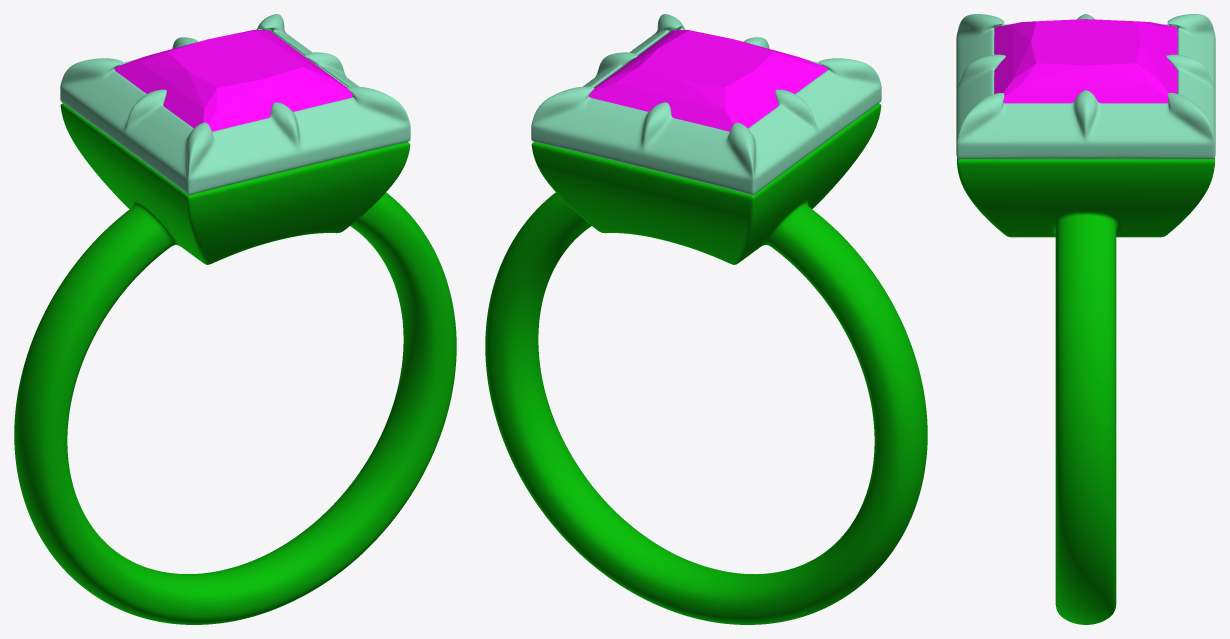
The model's file is BE1727_PR_200ct_RENDER.glb.
3 renders of one model, left to right at view 1: azimuth 30°, elevation 25°; view 2: azimuth 150°, elevation 25°; view 3: azimuth 270°, elevation 25°, orthographic.
Parts seen in each view (by area): view 1: Metal 01, Metal 02, CS_Diamond_Princess; view 2: Metal 01, Metal 02, CS_Diamond_Princess; view 3: Metal 01, Metal 02, CS_Diamond_Princess.
Part boxes in pixels (<box>): Metal 01: <box>14,103,456,624</box>; Metal 02: <box>60,14,410,194</box>; CS_Diamond_Princess: <box>114,30,352,131</box>; Metal 01: <box>485,103,927,624</box>; Metal 02: <box>531,14,881,194</box>; CS_Diamond_Princess: <box>589,30,827,131</box>; Metal 01: <box>957,158,1214,624</box>; Metal 02: <box>956,14,1215,158</box>; CS_Diamond_Princess: <box>994,19,1177,103</box>.
Size of the model in its own units: 20.49 by 25.28 by 10.63.
